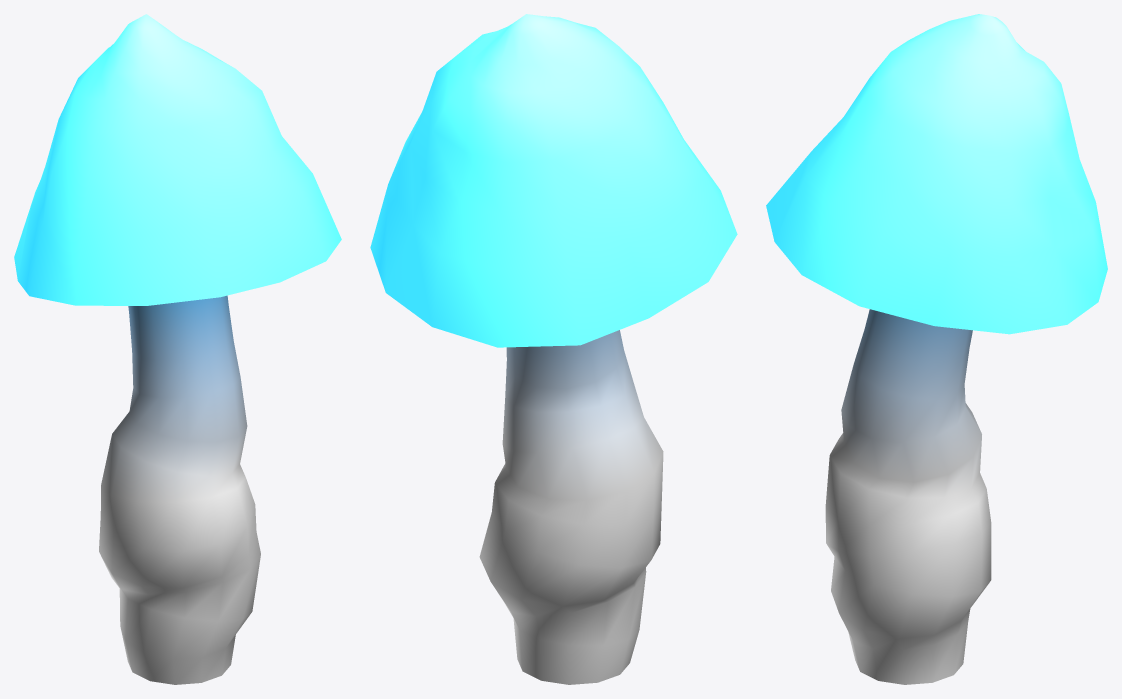
Rendered from mushroom_8.glb.
3 renders of one model, left to right at view 1: azimuth 30°, elevation 25°; view 2: azimuth 150°, elevation 25°; view 3: azimuth 270°, elevation 25°, orthographic. The views are drawn at different scales.
Visible parts, largest first — view 1: geo1; view 2: geo1; view 3: geo1.
Part boxes in pixels (x1,y1,x2,y2): geo1: (14, 14, 341, 684); geo1: (370, 14, 737, 684); geo1: (766, 14, 1107, 684).
Bounding box in the file's own units: 0.2119 × 0.4462 × 0.2129.
